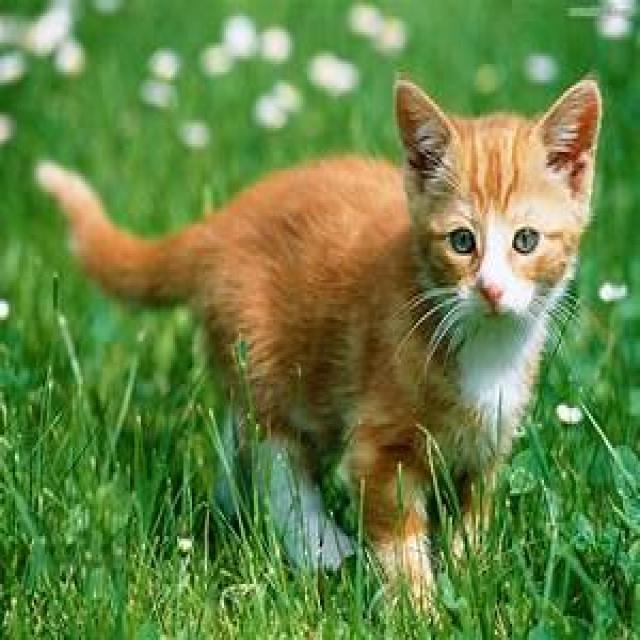cat: (38, 48, 640, 587)
